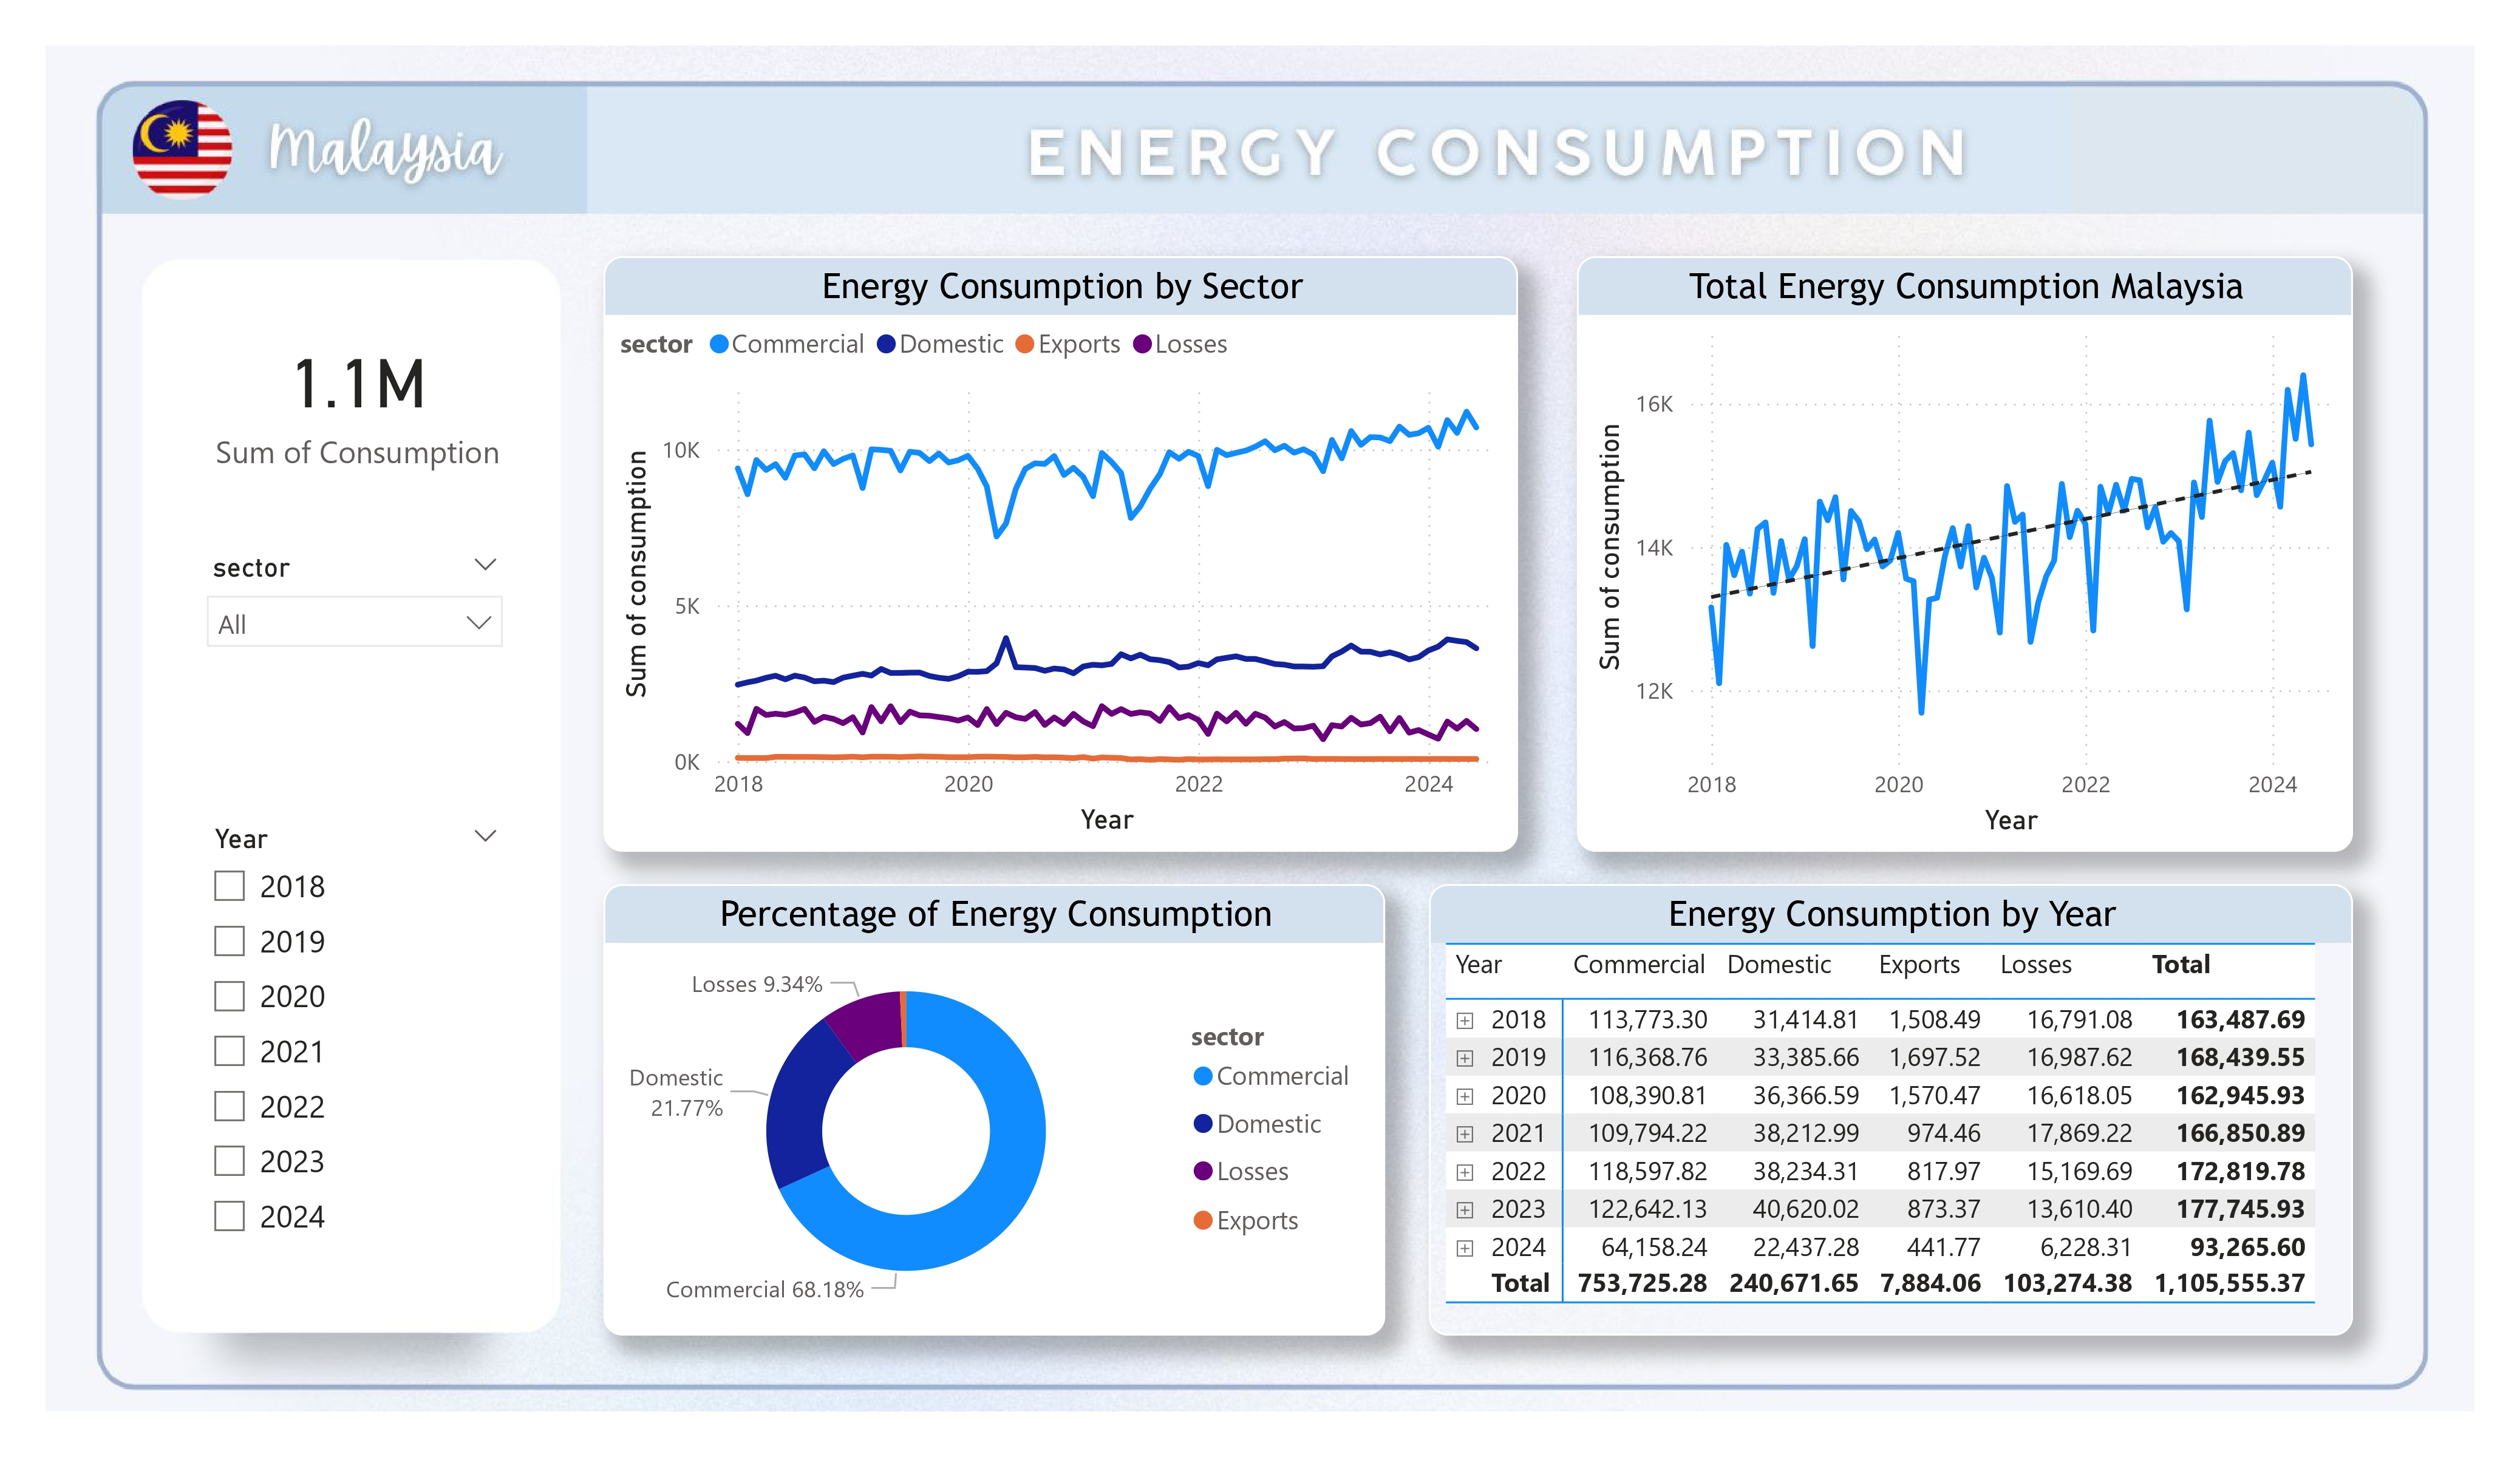

This screenshot's page, from the dashboard's own definition file:
{"tool":"powerbi","page":{"name":"Page 1","canvas":[1280,720],"ordinal":0},"visuals":[{"type":"lineChart","title":"Energy Consumption by Sector","fields":{"Series":["Consumption.sector"],"Y":["Sum(Consumption.consumption)"],"Category":["Consumption.date.Variation.Date Hierarchy.Year","Consumption.date.Variation.Date Hierarchy.Quarter","Consumption.date.Variation.Date Hierarchy.Month","Consumption.date.Variation.Date Hierarchy.Day"]},"box":[294.4,111,481.4,313.7],"z":1000},{"type":"slicer","title":"SECTOR","fields":{"Values":["Consumption.sector"]},"box":[74.8,261.8,176.1,68.8],"z":3000},{"type":"slicer","fields":{"Values":["Consumption.date.Variation.Date Hierarchy.Year"]},"box":[76,405.4,174.9,235.3],"z":4000},{"type":"card","fields":{"Values":["Sum(Consumption.consumption)"]},"box":[62.1,120.6,204.8,129.5],"z":5000},{"type":"lineChart","title":"Total Energy Consumption Malaysia","fields":{"Category":["Consumption.date.Variation.Date Hierarchy.Year","Consumption.date.Variation.Date Hierarchy.Quarter","Consumption.date.Variation.Date Hierarchy.Month","Consumption.date.Variation.Date Hierarchy.Day"],"Y":["Sum(Consumption.consumption)"]},"box":[807.1,111,409,313.7],"z":6000},{"type":"donutChart","title":"Percentage of Energy Consumption","fields":{"Category":["Consumption.sector"],"Y":["Sum(Consumption.consumption)"]},"box":[294.4,441.6,411.4,238.9],"z":7000},{"type":"pivotTable","title":"Energy Consumption by Year","fields":{"Values":["Sum(Consumption.consumption)"],"Columns":["Consumption.sector"],"Rows":["Consumption.date.Variation.Date Hierarchy.Year","Consumption.date.Variation.Date Hierarchy.Quarter","Consumption.date.Variation.Date Hierarchy.Month","Consumption.date.Variation.Date Hierarchy.Day"]},"box":[728.7,441.6,487.4,238.9],"z":8000}]}

Visuals, with their boxes in screenshot pixels (x1, y1, x2, y2):
"Energy Consumption by Sector" lineChart: bbox=[604, 256, 1517, 851]
"SECTOR" slicer: bbox=[188, 542, 522, 673]
slicer - Consumption.date.Variation.Date Hierarchy.Year: bbox=[189, 815, 522, 1261]
card - Sum(Consumption.consumption): bbox=[163, 274, 552, 520]
"Total Energy Consumption Malaysia" lineChart: bbox=[1577, 256, 2353, 851]
"Percentage of Energy Consumption" donutChart: bbox=[604, 883, 1385, 1337]
"Energy Consumption by Year" pivotTable: bbox=[1428, 883, 2353, 1337]
